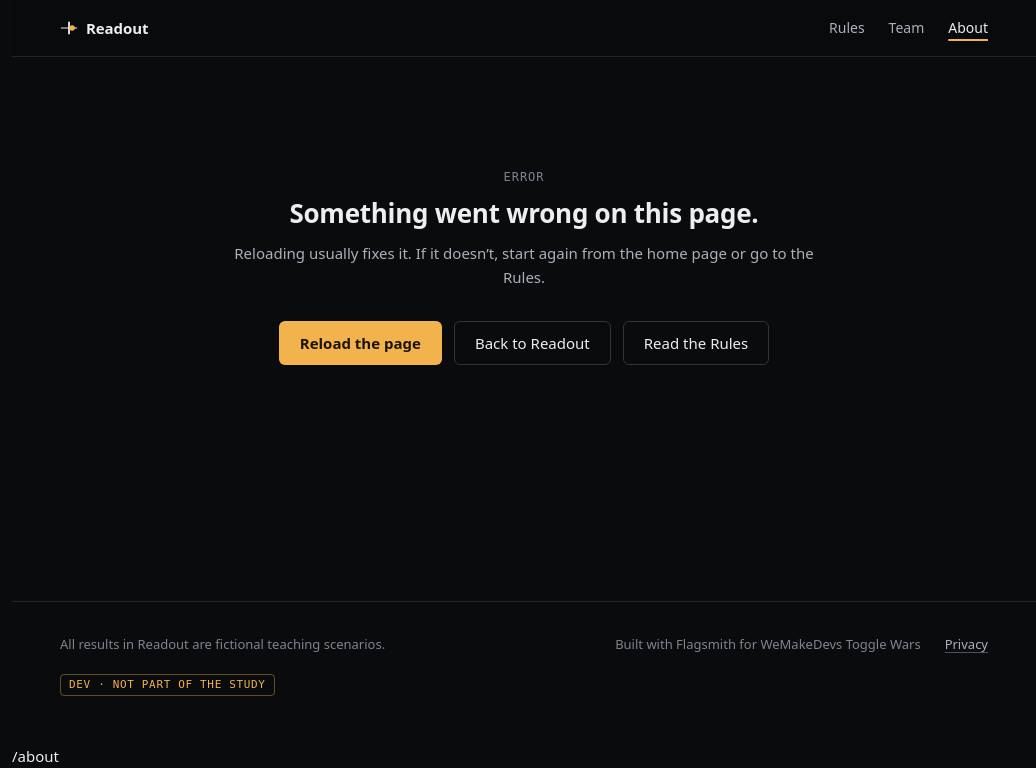
Test: error boundary (29 §10) › navigating away from the broken page clears the error (header links keep working)
The image size is (1036, 768).
Click the link "Rules". click: [847, 28]
box: left=829, top=18, right=865, bottom=37
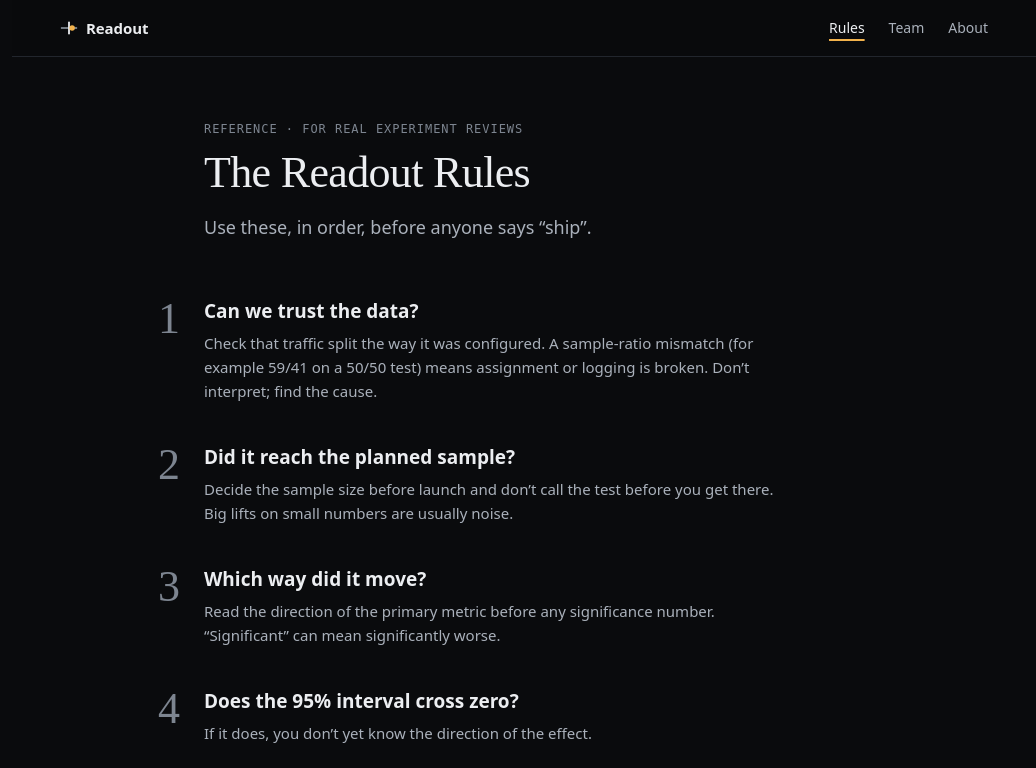
Expected: the heading "The Readout Rules" is shown, left=204, top=148, right=530, bottom=197
